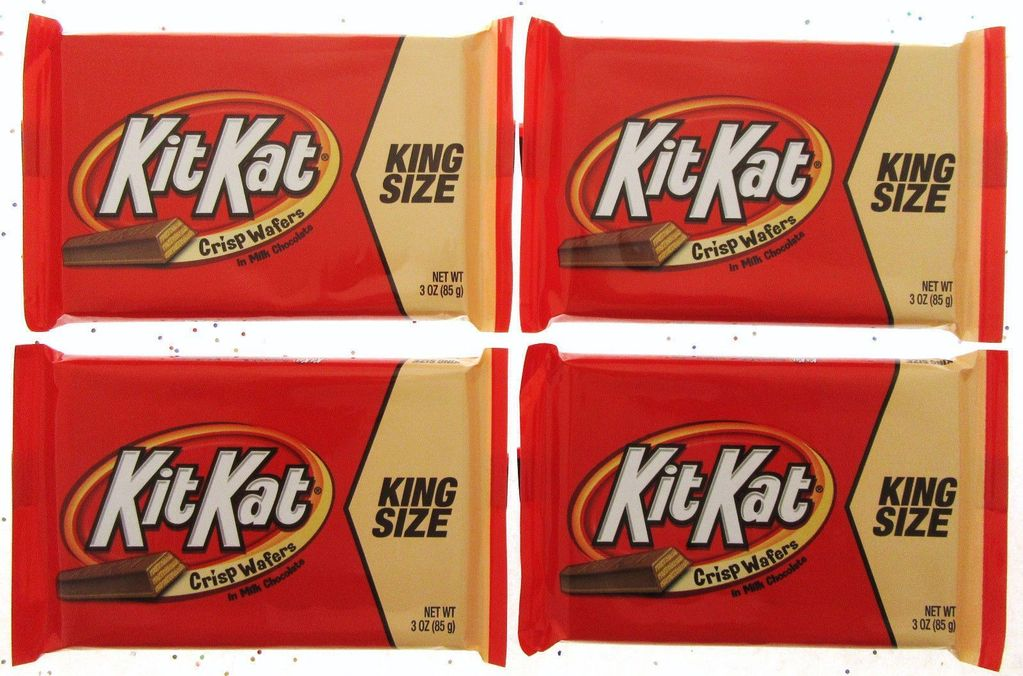kitkat: (22, 9, 513, 333), (13, 345, 506, 665), (519, 344, 1009, 660), (531, 19, 1004, 327)
